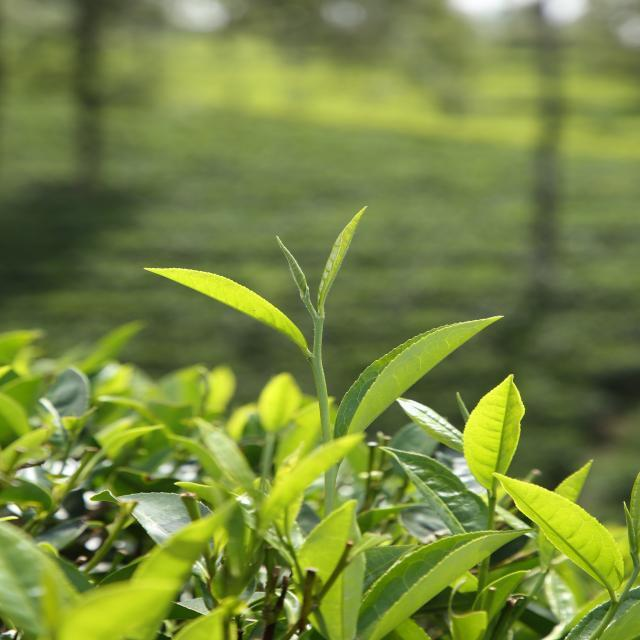Stem: (312, 354, 322, 365)
